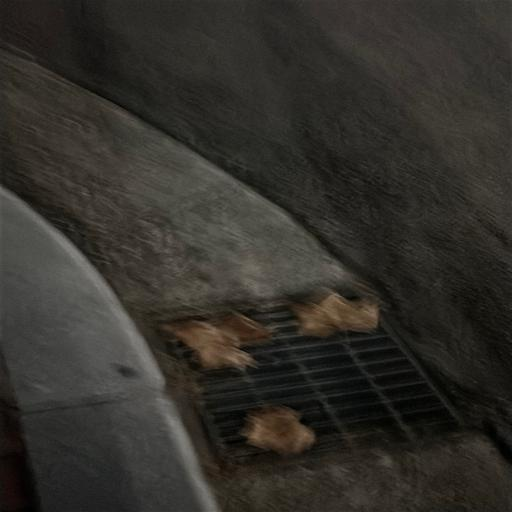debris: (156, 304, 277, 369), (265, 289, 383, 337), (241, 404, 316, 456), (178, 360, 207, 402), (344, 433, 366, 453), (230, 451, 244, 461), (232, 464, 254, 470)
drain: (156, 289, 469, 471)
